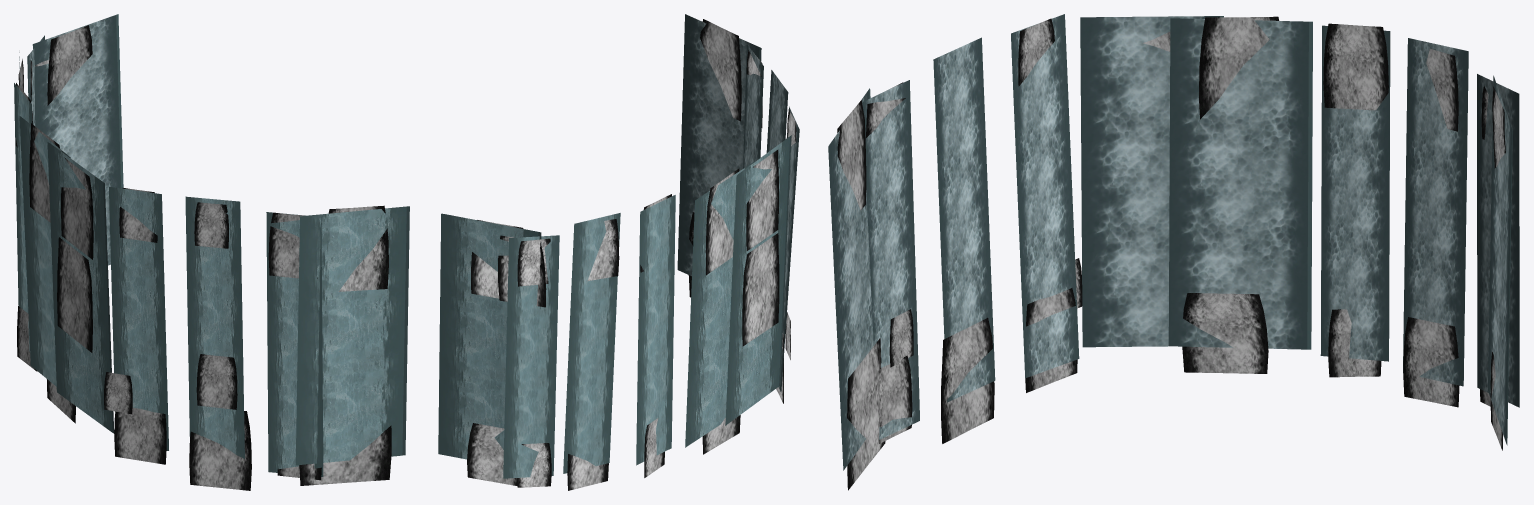
Rendered from dragonblight_combin_waterfall_04.obj.
The picture shows the model from 3 angles, left to right: view 1: azimuth 30°, elevation 25°; view 2: azimuth 150°, elevation 25°; view 3: azimuth 270°, elevation 25°; orthographic projection. The views are drawn at different scales.
Parts seen in each view (by area): view 1: Geoset2, Geoset4, Geoset0, Geoset1, Geoset3, Geoset5; view 2: Geoset2, Geoset4, Geoset0, Geoset1, Geoset5, Geoset3; view 3: Geoset5, Geoset1, Geoset0, Geoset3, Geoset2.
Part boxes in pixels (x1,y1,x2,y2): Geoset2: [19, 14, 406, 465]; Geoset4: [14, 52, 323, 476]; Geoset0: [15, 25, 388, 490]; Geoset1: [23, 15, 409, 455]; Geoset3: [47, 379, 391, 485]; Geoset5: [14, 35, 323, 449]; Geoset2: [438, 47, 789, 459]; Geoset4: [503, 69, 799, 478]; Geoset0: [471, 19, 796, 490]; Geoset1: [446, 14, 791, 385]; Geoset5: [503, 45, 799, 466]; Geoset3: [467, 212, 740, 486]; Geoset5: [862, 14, 1519, 439]; Geoset1: [828, 16, 1511, 470]; Geoset0: [837, 16, 1505, 443]; Geoset3: [847, 293, 1502, 490]; Geoset2: [862, 16, 1512, 445].
Size of the model in its own units: 199 by 269 by 444.
3 materials, 3 textured.
